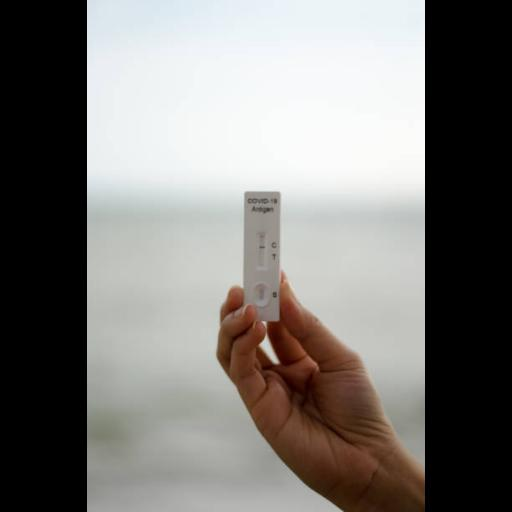Neg: (245, 190, 277, 322)
